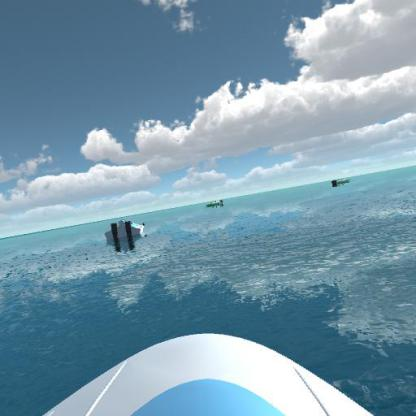usv0: (330, 174, 352, 190), (205, 196, 224, 213)
usv1: (99, 214, 154, 250)
